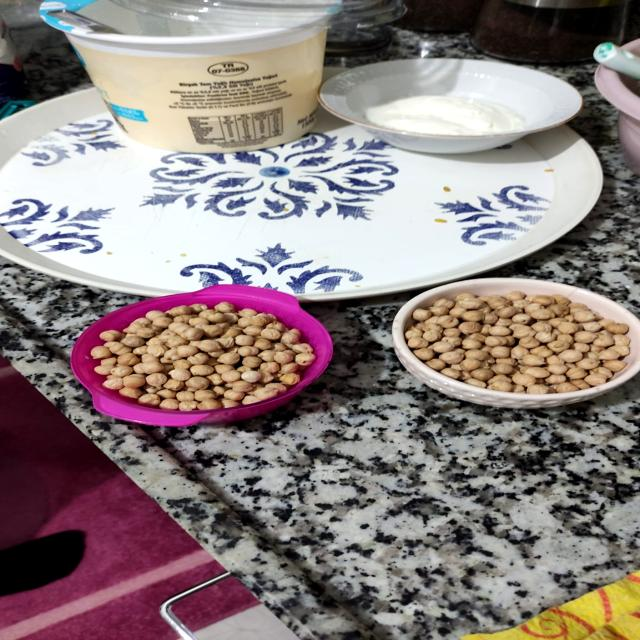chickpeas: (48, 274, 342, 440), (377, 264, 640, 410)
yogurt: (335, 55, 566, 155)
